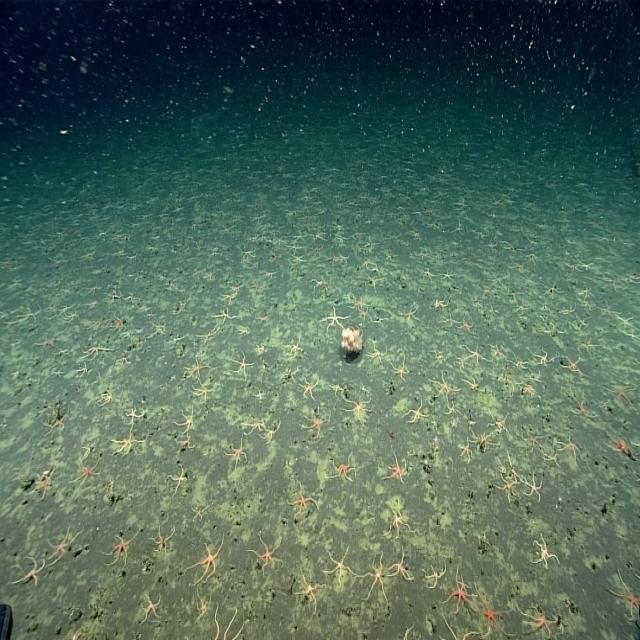brittle-stars: (477, 581, 512, 640), (608, 566, 640, 622), (189, 535, 226, 583), (516, 600, 562, 638), (358, 549, 389, 605), (446, 565, 475, 619), (249, 532, 285, 574), (295, 562, 325, 612), (323, 542, 356, 586), (50, 526, 84, 566), (203, 610, 245, 640), (15, 552, 48, 590), (382, 497, 412, 538), (105, 532, 137, 569), (288, 479, 320, 515), (529, 530, 558, 568), (112, 428, 146, 458), (602, 436, 640, 462), (328, 450, 358, 482), (430, 370, 459, 403), (391, 546, 415, 584), (302, 406, 330, 438), (382, 450, 408, 484), (343, 397, 373, 426), (73, 460, 101, 490), (32, 464, 56, 499), (422, 556, 446, 590), (319, 306, 350, 332), (566, 389, 592, 420), (226, 435, 249, 470), (150, 524, 173, 558), (558, 432, 583, 463), (522, 469, 544, 504), (139, 590, 162, 623), (486, 408, 511, 437), (612, 384, 636, 414), (42, 410, 69, 436), (404, 399, 430, 425), (232, 351, 254, 381), (495, 472, 517, 502), (185, 356, 210, 382), (462, 341, 486, 368), (175, 406, 198, 434), (472, 428, 497, 453), (390, 350, 409, 382), (520, 427, 545, 451), (560, 351, 583, 376), (169, 464, 189, 492), (300, 375, 321, 401), (84, 342, 112, 361), (13, 304, 39, 324), (529, 346, 551, 369), (193, 381, 216, 403), (98, 385, 119, 409), (197, 327, 221, 348), (283, 336, 304, 359), (262, 420, 282, 444), (211, 307, 237, 325), (458, 436, 473, 467), (174, 432, 197, 452), (195, 592, 211, 620), (126, 406, 146, 428), (461, 374, 483, 394), (506, 453, 521, 482), (34, 334, 58, 352), (368, 343, 388, 364), (244, 414, 265, 434), (441, 310, 460, 331), (403, 302, 422, 323), (190, 502, 208, 524), (518, 378, 536, 400), (86, 316, 108, 334), (596, 304, 622, 318), (56, 301, 76, 317), (616, 315, 636, 331), (365, 276, 385, 292), (507, 356, 529, 370), (112, 316, 129, 334), (460, 313, 474, 334), (351, 292, 368, 309), (382, 246, 398, 264), (420, 267, 436, 283), (172, 301, 190, 315), (289, 251, 306, 265), (116, 352, 130, 368), (63, 310, 79, 324), (492, 344, 506, 360), (360, 257, 376, 271), (124, 289, 138, 304), (445, 404, 462, 416), (436, 295, 450, 309), (241, 247, 255, 261), (78, 362, 90, 378), (437, 270, 454, 281), (87, 282, 101, 295), (309, 231, 327, 241), (219, 292, 235, 303), (332, 234, 349, 244), (250, 280, 262, 294), (312, 277, 324, 291), (326, 254, 340, 266), (310, 244, 325, 255), (338, 252, 349, 266), (262, 270, 279, 279), (257, 312, 269, 324), (331, 384, 343, 396), (630, 567, 640, 581), (109, 291, 122, 301), (51, 369, 64, 378), (359, 308, 368, 321), (201, 273, 215, 281)
